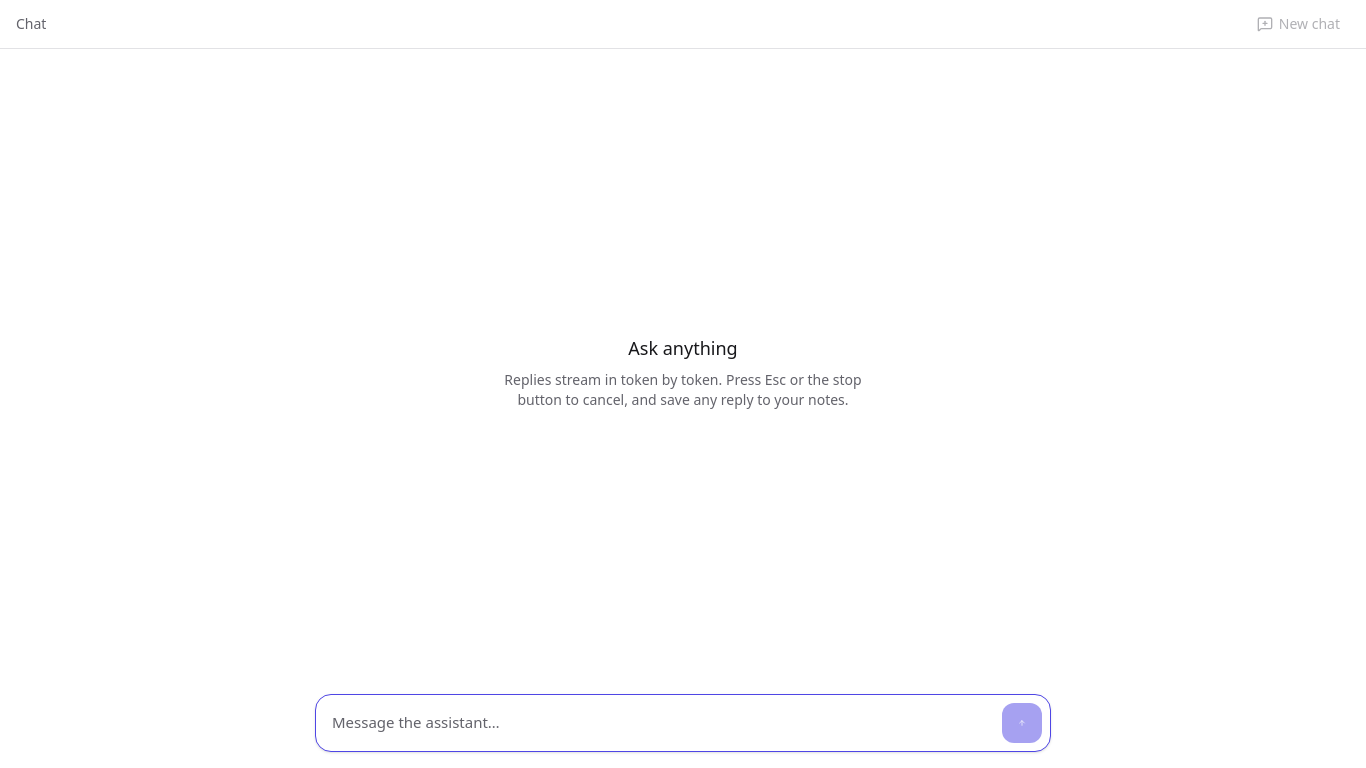
Scenario: ChatView › stops on Escape, announces it, and returns focus to the composer
The width and height of the screenshot is (1366, 768).
Type "Hi" into the text box labelled "Message" at (659, 723), box [324, 703, 994, 743]
Then press Enter
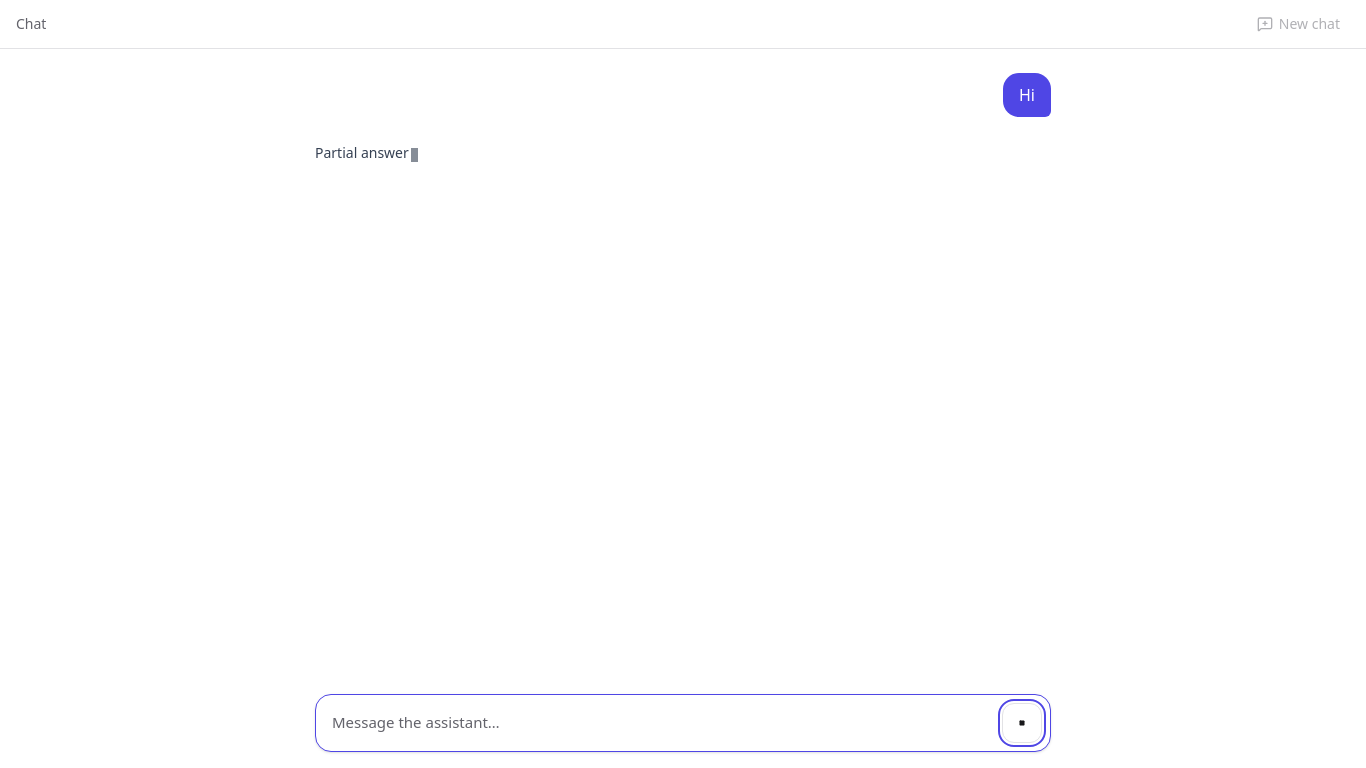
expect the button named "Stop generating" is shown: met, box [1002, 703, 1042, 743]
Press Escape
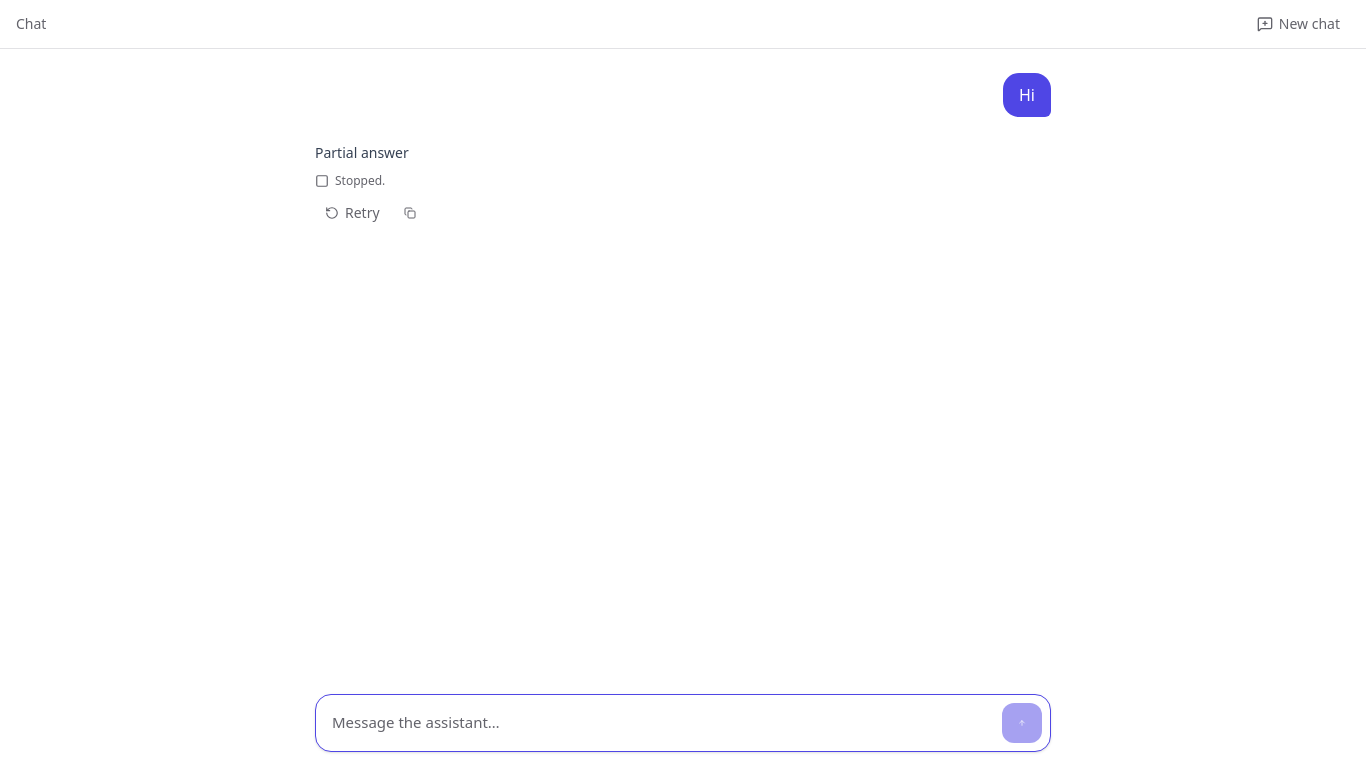
expect the text "Stopped." is shown: met, box [315, 172, 385, 189]
